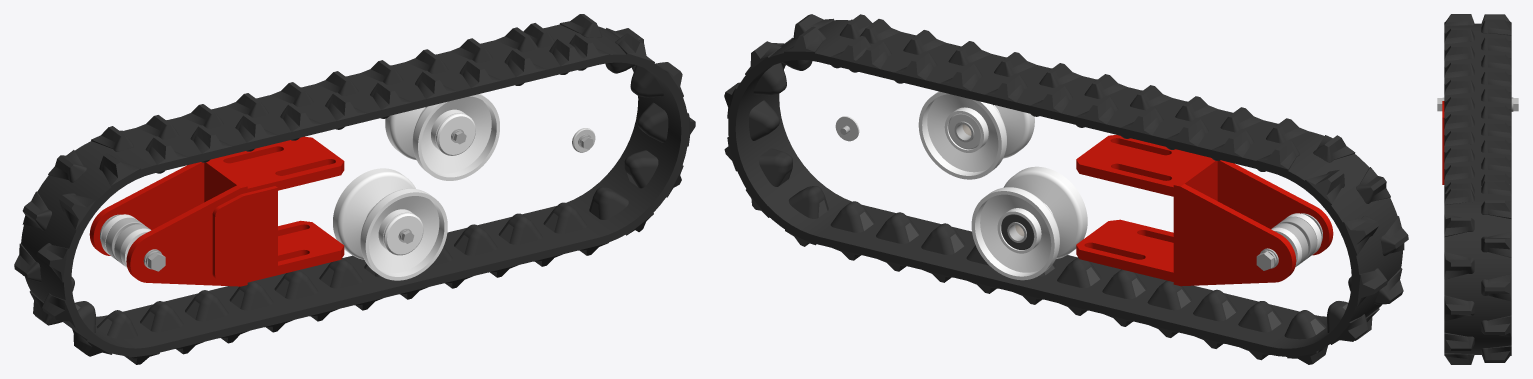
The model's file is right_track.dae.
3 renders of one model, left to right at view 1: azimuth 30°, elevation 25°; view 2: azimuth 150°, elevation 25°; view 3: azimuth 270°, elevation 25°, orthographic. The views are drawn at different scales.
Visible parts, largest first — view 1: _3DGeom-1164, Body_1 (×5), _3DGeom-1163; view 2: _3DGeom-1164, Body_1 (×5), _3DGeom-1163; view 3: _3DGeom-1164, Body_1 (×2).
Part boxes in pixels (x1,y1,x2,y2): _3DGeom-1164: [14, 14, 695, 364]; Body_1 (×5): [89, 94, 499, 286]; _3DGeom-1163: [75, 173, 637, 334]; _3DGeom-1164: [724, 14, 1408, 364]; Body_1 (×5): [918, 91, 1333, 286]; _3DGeom-1163: [779, 171, 1347, 334]; _3DGeom-1164: [1444, 14, 1511, 364]; Body_1 (×2): [1442, 98, 1518, 184].
Size of the model in its own units: 0.8656 by 0.121 by 0.271.
